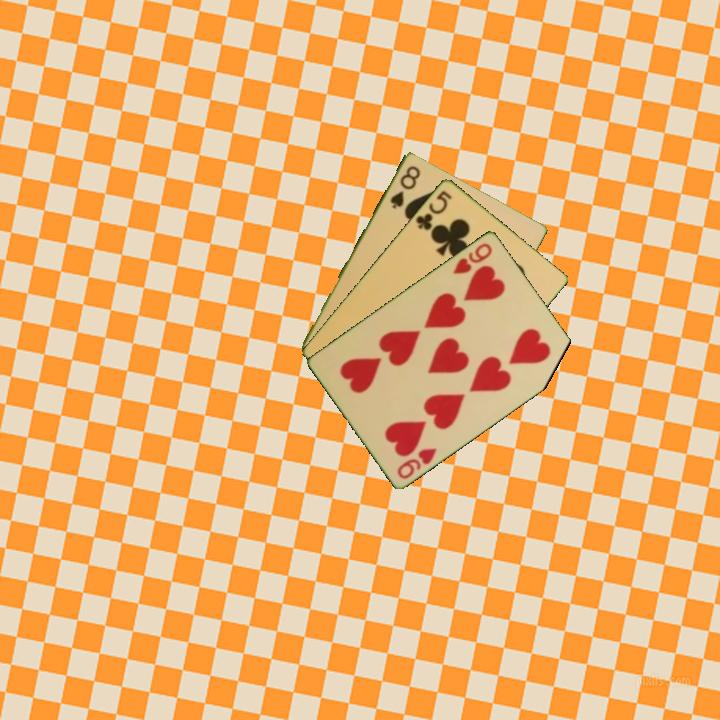5c: (412, 186, 455, 233)
8s: (386, 162, 423, 211)
9h: (393, 444, 440, 482), (449, 239, 495, 277)
